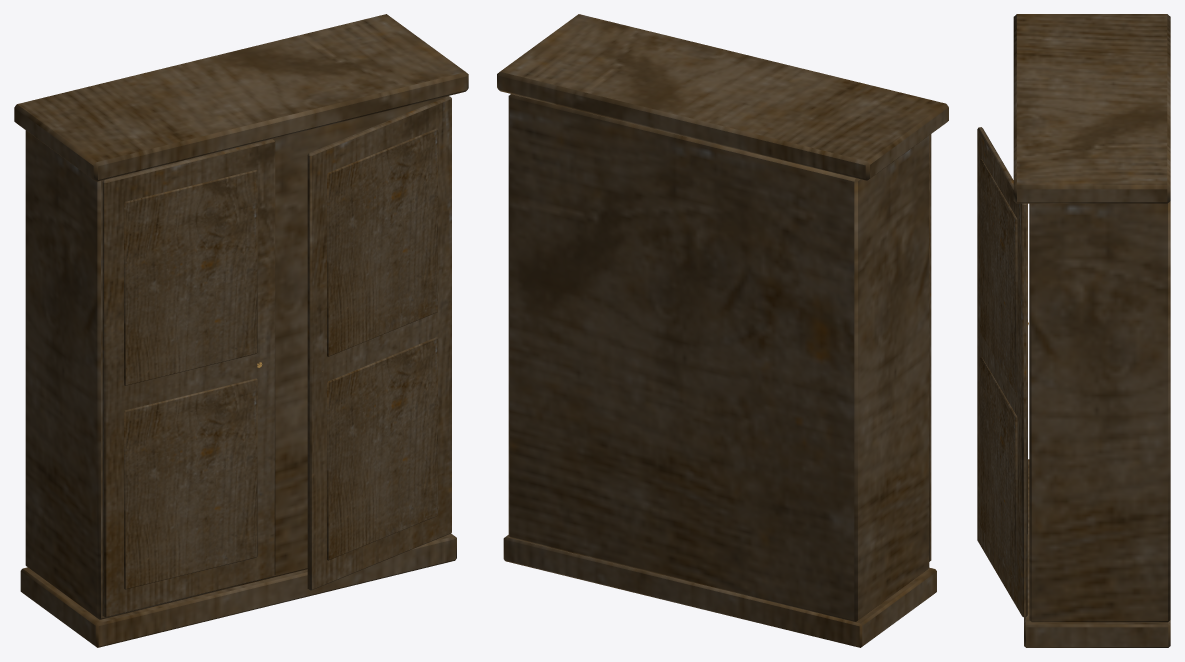
File: Wardrobe_Painted.fbx
3 renders of one model, left to right at view 1: azimuth 30°, elevation 25°; view 2: azimuth 150°, elevation 25°; view 3: azimuth 270°, elevation 25°, orthographic. The views are drawn at different scales.
Parts seen in each view (by area): view 1: Wardrobe_Painted; view 2: Wardrobe_Painted; view 3: Wardrobe_Painted.
Boxes of the visible parts, x1=… form: Wardrobe_Painted: x1=14, y1=14, x2=468, y2=647; Wardrobe_Painted: x1=497, y1=14, x2=948, y2=647; Wardrobe_Painted: x1=977, y1=14, x2=1170, y2=647.
Bounding box in the file's own units: 1.6 × 2 × 0.7515.
